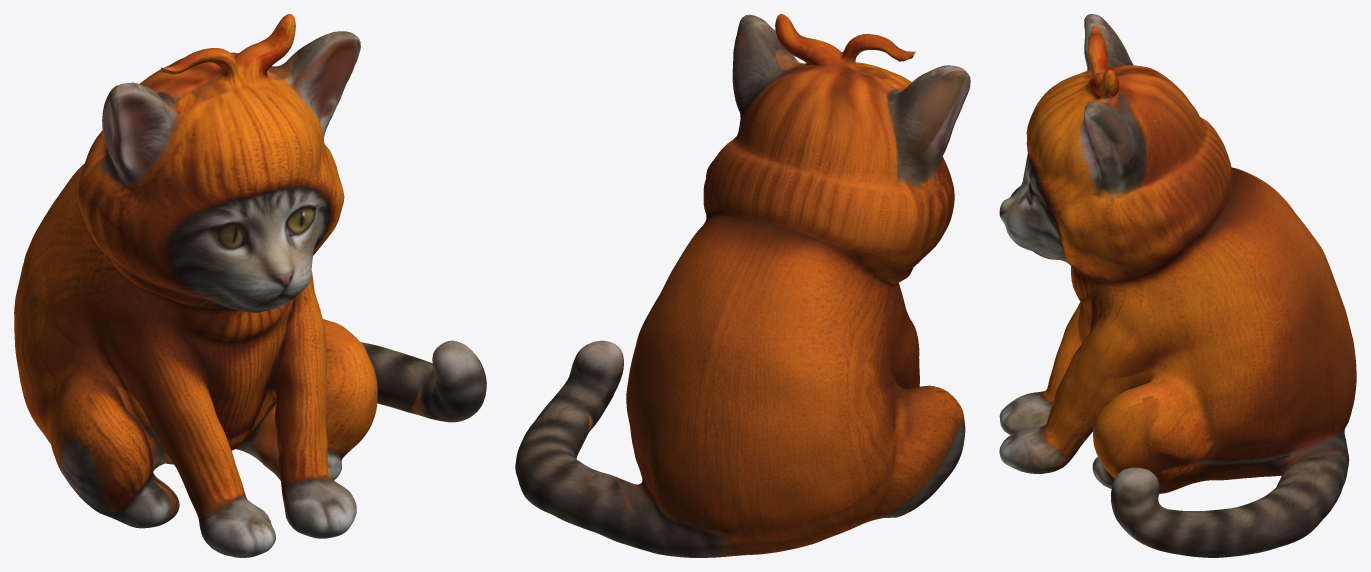
The model's file is cute_sitting_cat_with_pumpkin_outfit.glb.
The picture shows the model from 3 angles, left to right: view 1: azimuth 30°, elevation 25°; view 2: azimuth 150°, elevation 25°; view 3: azimuth 270°, elevation 25°; orthographic projection. The views are drawn at different scales.
Bounding box in the file's own units: 1.79 × 1.99 × 1.57.
Materials: 1 (1 with a texture image).
